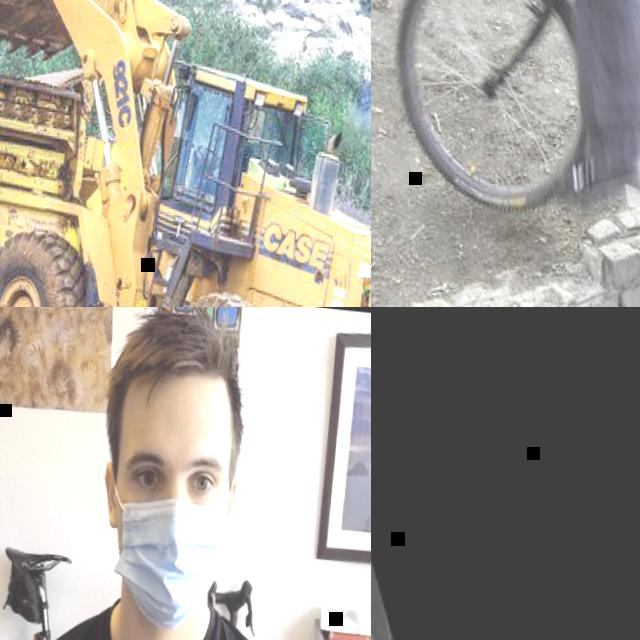Mask: (91, 463, 234, 636)
NO-Hardhat: (106, 307, 246, 394)
Person: (0, 307, 371, 640), (479, 0, 640, 218), (203, 102, 231, 191)
vehicle: (0, 0, 371, 307), (0, 18, 105, 307)
